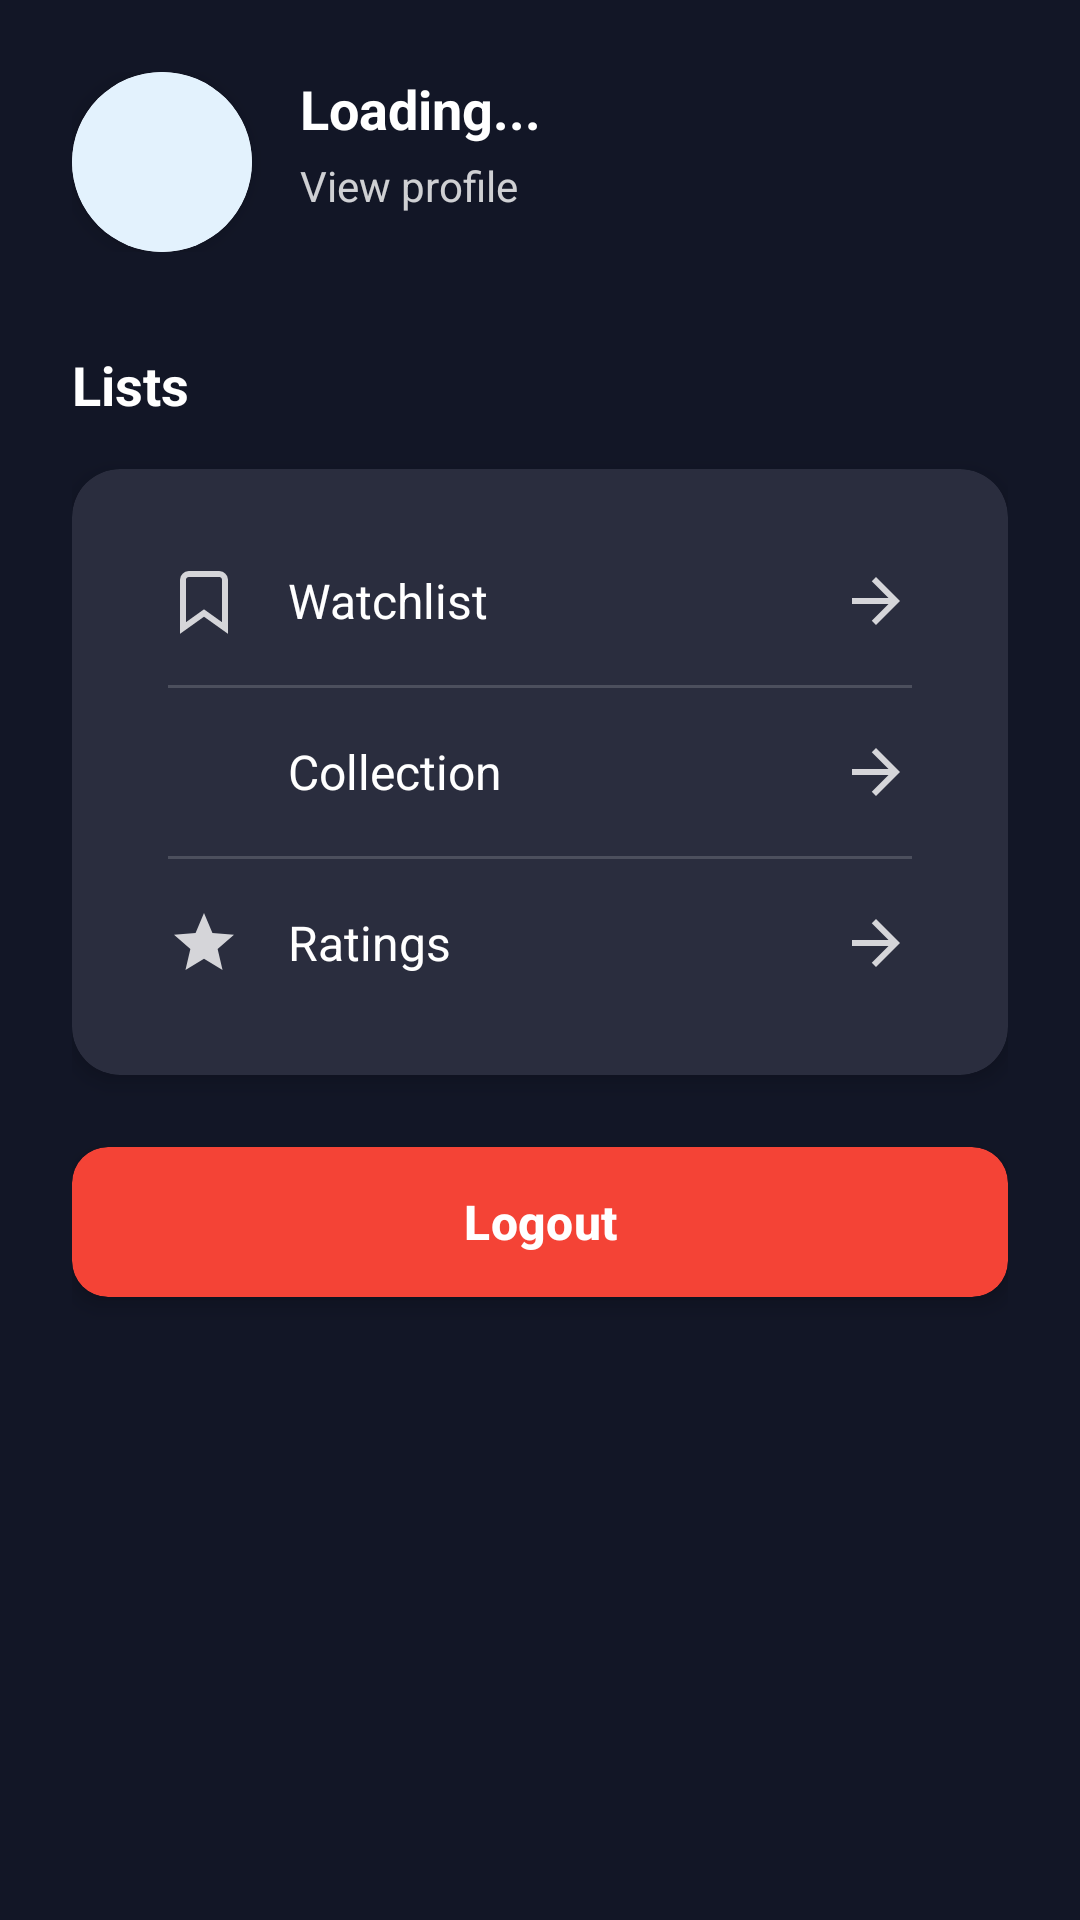

Where to tap for icons on this 1080w x 1920h app screen, as [x,y]:
arrow forward: [876,601], [876,772], [876,943]
bookmark: [204,602]
star: [204,941]
